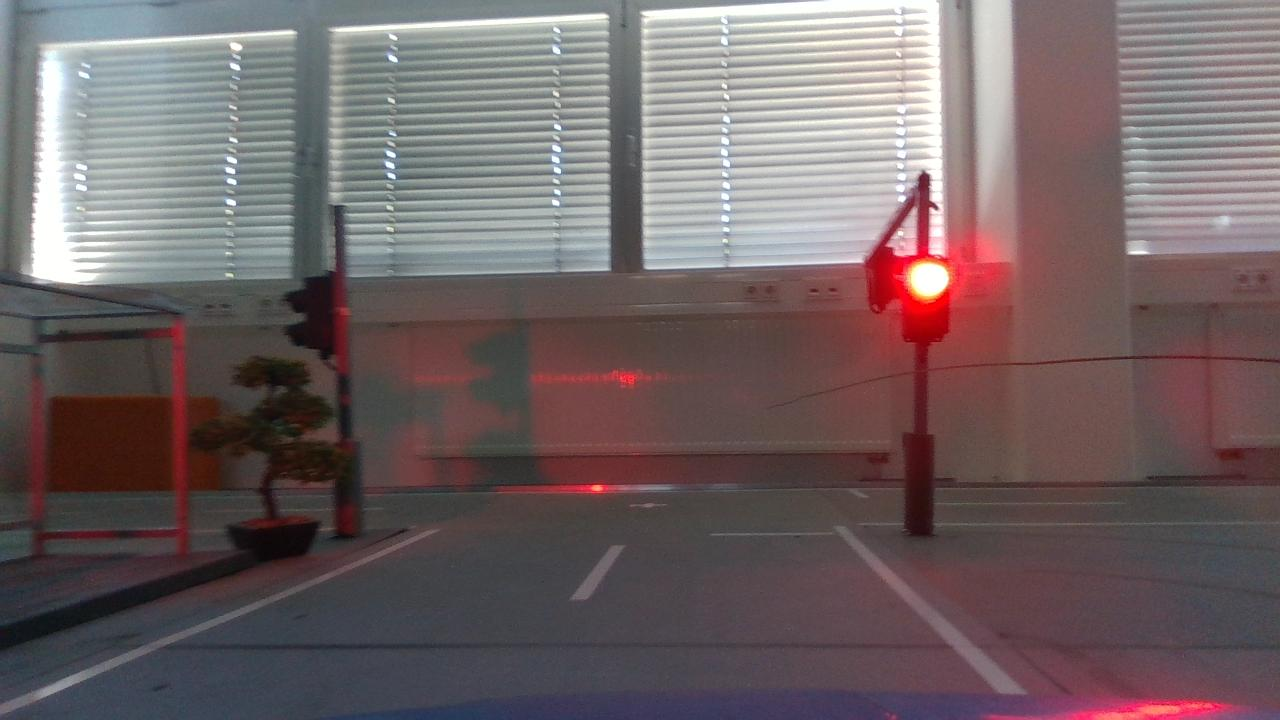traffic_light_red: (877, 242, 977, 367)
